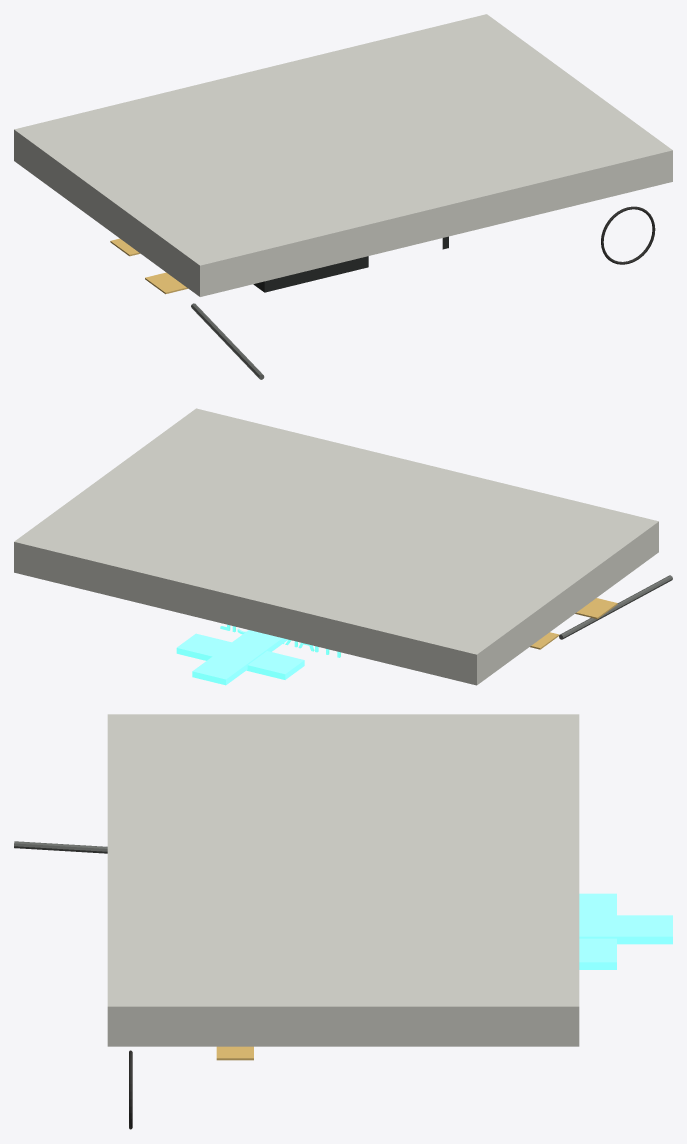
The model's file is dz_real_pharmacy_facade_neon.glb.
3 views of the same model, one above another, from view 1: azimuth 30°, elevation 25°; view 2: azimuth 150°, elevation 25°; view 3: azimuth 270°, elevation 25° (orthographic). The views are drawn at different scales.
Visible parts, largest first — view 1: pharmacy tiled facade, pharmacy black entry, fallen IV pole, loose cable loop; view 2: pharmacy tiled facade, neon cross vertical, neon cross horizontal, fallen IV pole, medical poster torn.001; view 3: pharmacy tiled facade, neon cross vertical, neon cross horizontal, fallen IV pole.
Part boxes in pixels (x1,y1,x2,y2): pharmacy tiled facade: (14, 14, 672, 296); pharmacy black entry: (253, 256, 368, 292); fallen IV pole: (191, 303, 264, 379); loose cable loop: (601, 206, 655, 264); pharmacy tiled facade: (14, 408, 658, 685); neon cross vertical: (192, 630, 287, 685); neon cross horizontal: (176, 633, 304, 679); fallen IV pole: (559, 575, 672, 639); medical poster torn.001: (575, 598, 617, 619); pharmacy tiled facade: (107, 714, 579, 1046); neon cross vertical: (579, 915, 672, 944); neon cross horizontal: (579, 893, 616, 969); fallen IV pole: (14, 841, 107, 853).
Bounding box in the file's own units: 6.6 × 1.49 × 6.29.
